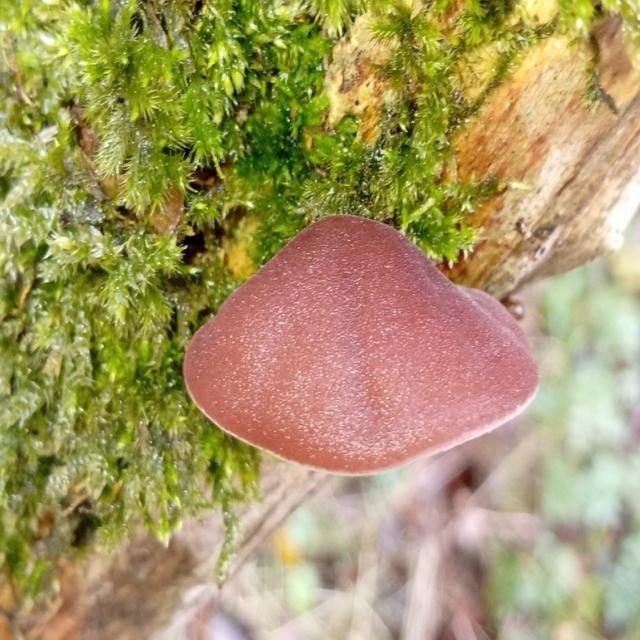Matang: (179, 206, 546, 487)
